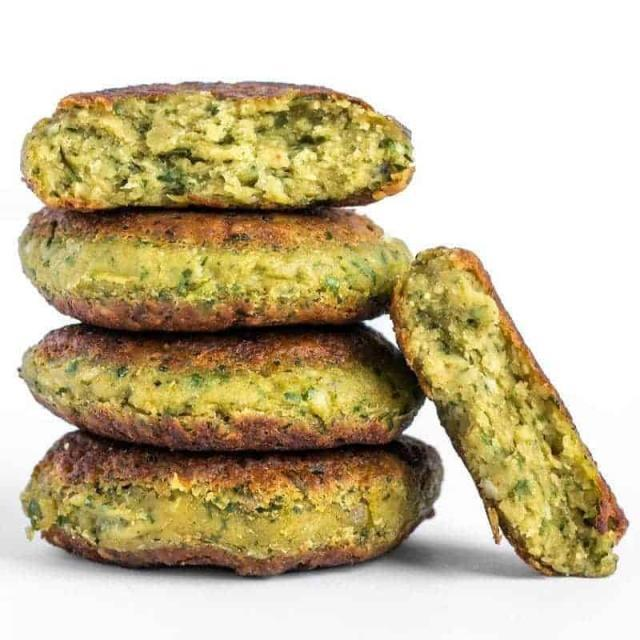flafel: (11, 440, 443, 573), (26, 77, 412, 216), (0, 323, 423, 440), (13, 206, 406, 314)
